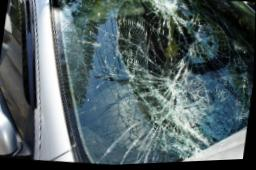Windshield: (33, 0, 256, 167)
